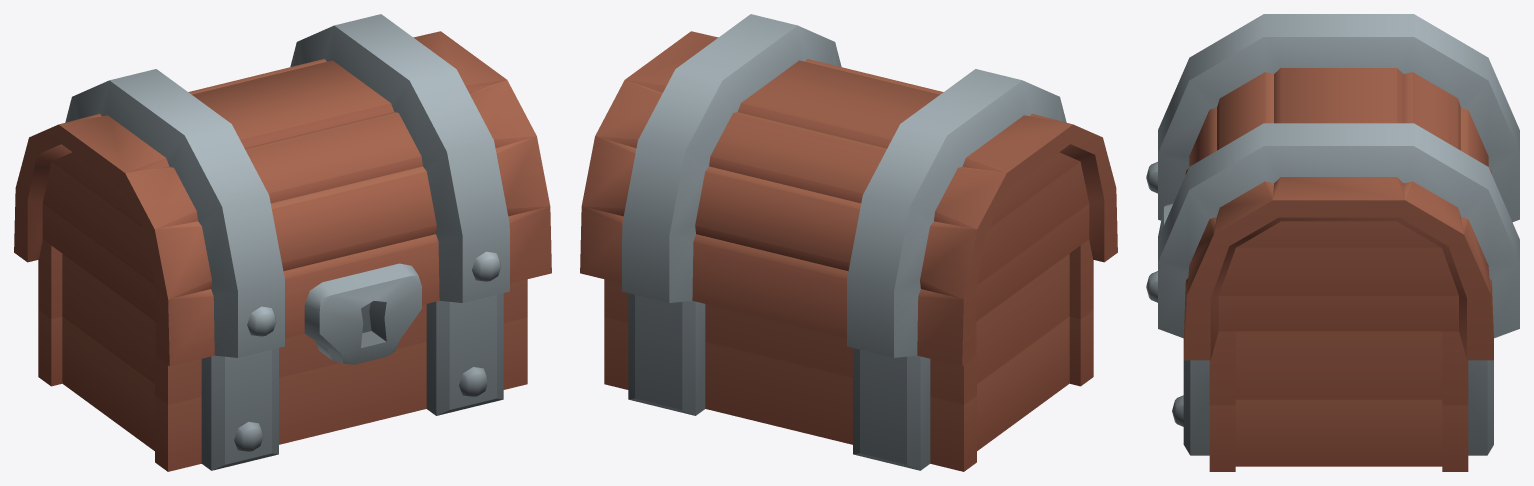
Rendered from chest_gold.glb.
3 renders of one model, left to right at view 1: azimuth 30°, elevation 25°; view 2: azimuth 150°, elevation 25°; view 3: azimuth 270°, elevation 25°, orthographic.
Bounding box in the file's own units: 1.7 × 1.3 × 1.45.
1 material, 1 textured.
